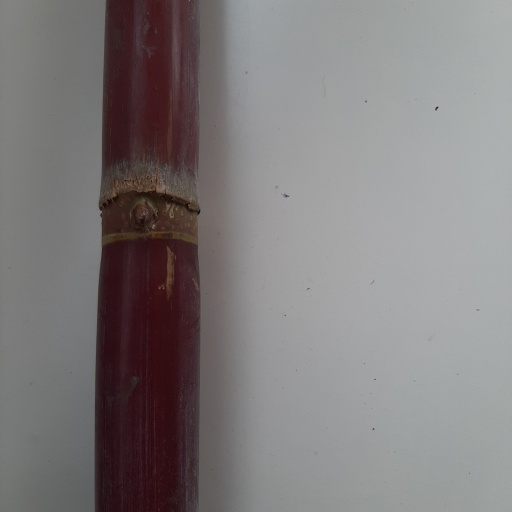Bud: (129, 201, 156, 230)
